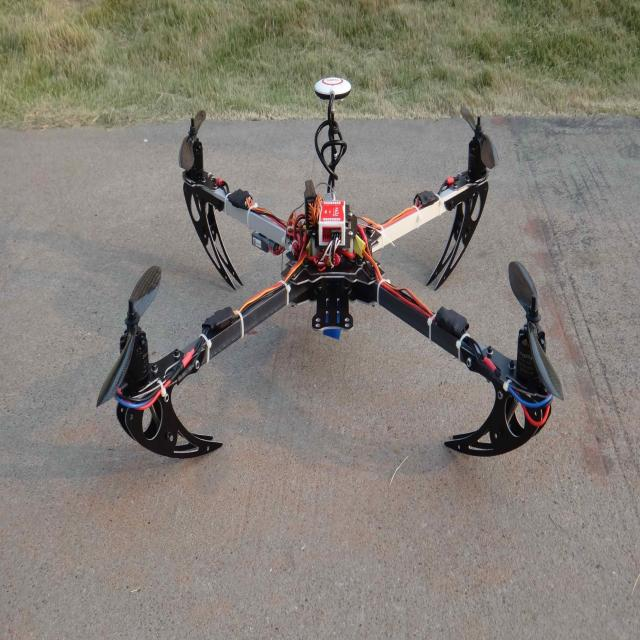drone: (80, 104, 581, 496)
